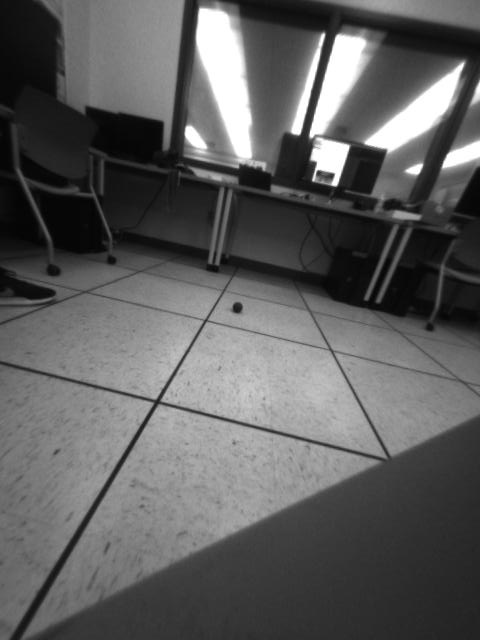dogtoy: (225, 292, 254, 322)
